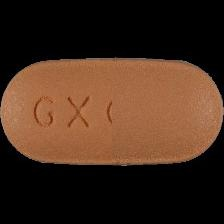53808-0893: (0, 0, 224, 224)
